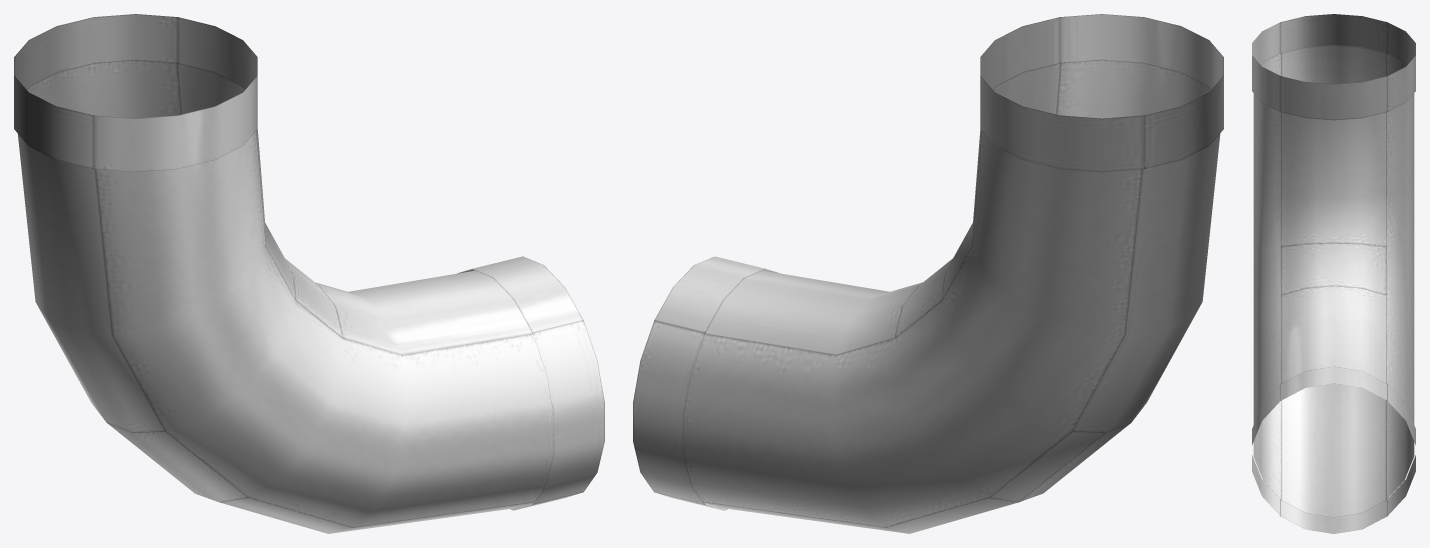
The model's file is 水管转角.obj.
The picture shows the model from 3 angles, left to right: view 1: azimuth 30°, elevation 25°; view 2: azimuth 150°, elevation 25°; view 3: azimuth 270°, elevation 25°; orthographic projection. The views are drawn at different scales.
Parts seen in each view (by area): view 1: Cylinder309; view 2: Cylinder309; view 3: Cylinder309.
Part boxes in pixels (box(x1,y1,x2,y2)): Cylinder309: box(14, 14, 604, 533); Cylinder309: box(633, 14, 1223, 533); Cylinder309: box(1252, 14, 1415, 533).
Bounding box in the file's own units: 49.97 × 48.44 × 20.47.
